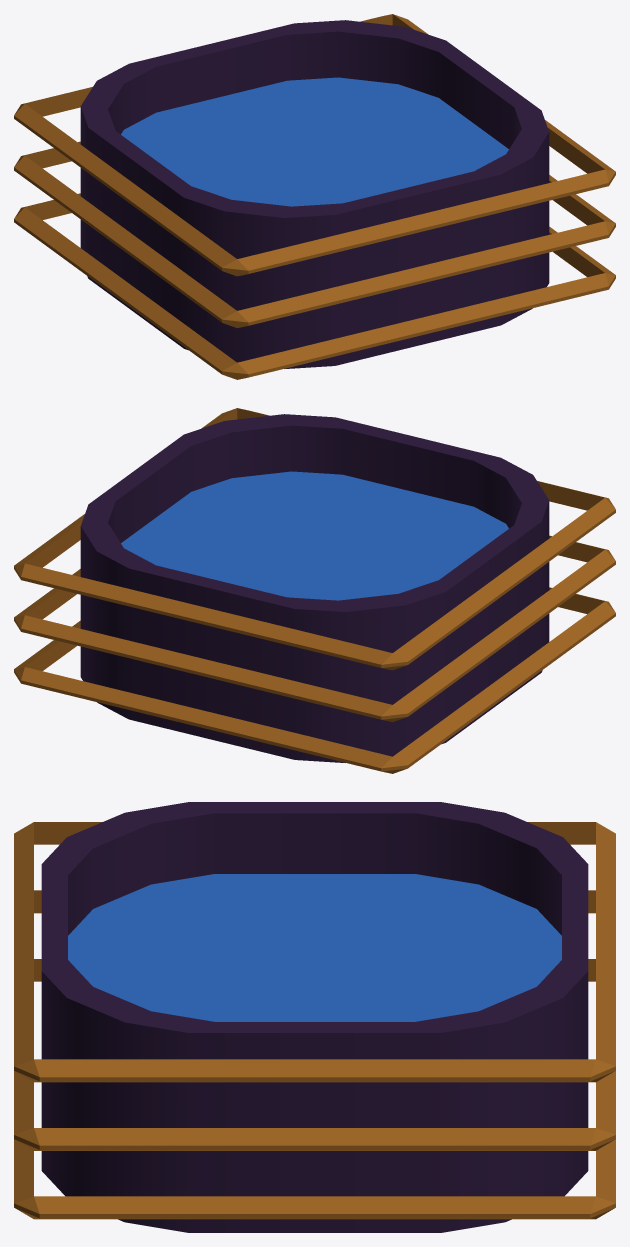
Rendered from Hot_Tub 1.fbx.
3 renders of one model, top to bottom at view 1: azimuth 30°, elevation 25°; view 2: azimuth 150°, elevation 25°; view 3: azimuth 270°, elevation 25°, orthographic. The views are drawn at different scales.
Parts seen in each view (by area): view 1: Tub, NeonLights, Water; view 2: Tub, NeonLights, Water; view 3: Tub, Water, NeonLights.
Boxes of the visible parts, box(x1,y1,x2,y2) form: Tub: box(80, 20, 549, 368); NeonLights: box(14, 14, 615, 379); Water: box(121, 77, 508, 206); Tub: box(80, 414, 549, 762); NeonLights: box(14, 408, 615, 773); Water: box(121, 471, 508, 600); Tub: box(41, 802, 588, 1232); Water: box(68, 874, 561, 1021); NeonLights: box(14, 822, 615, 1219).
Bounding box in the file's own units: 287 × 105 × 287.
